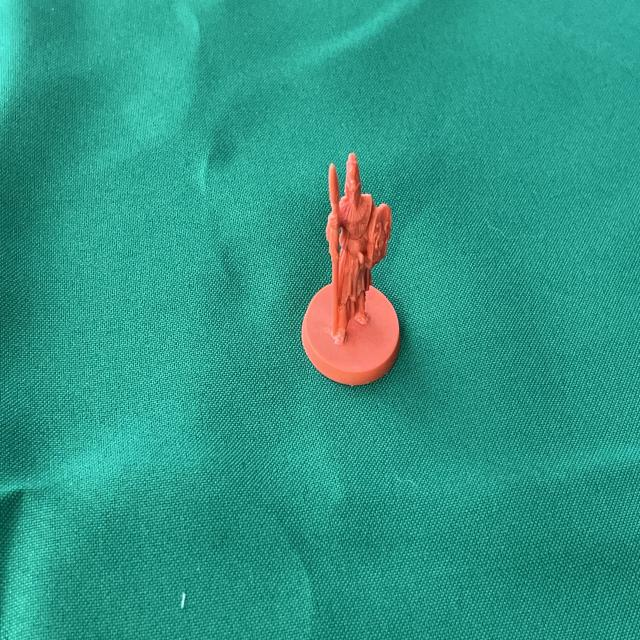amon_follower: (301, 153, 400, 385)
